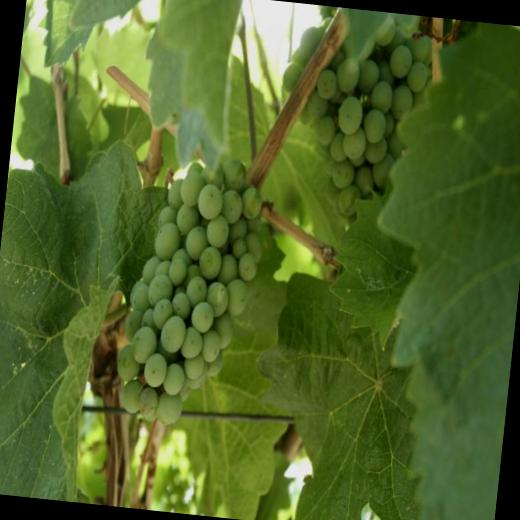Orange: (110, 148, 272, 435), (266, 1, 436, 234)
